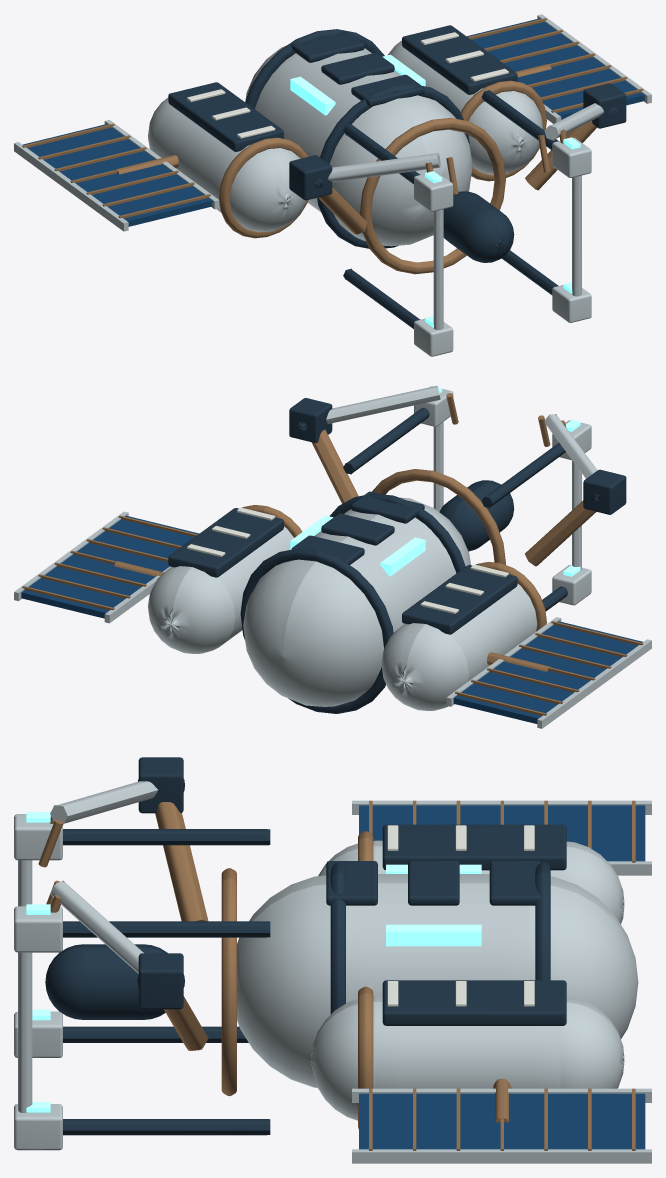
Rendered from equipment.glb.
3 renders of one model, top to bottom at view 1: azimuth 30°, elevation 25°; view 2: azimuth 150°, elevation 25°; view 3: azimuth 270°, elevation 25°, orthographic. The views are drawn at different scales.
Parts seen in each view (by area): view 1: StaticHull, AnimatedHardware; view 2: StaticHull, AnimatedHardware; view 3: StaticHull, AnimatedHardware.
Boxes of the visible parts, <box> form: StaticHull: <box>14,14,651,356</box>; AnimatedHardware: <box>289,83,626,234</box>; StaticHull: <box>14,386,651,728</box>; AnimatedHardware: <box>289,385,626,566</box>; StaticHull: <box>14,800,651,1163</box>; AnimatedHardware: <box>38,757,208,1050</box>.
Bounding box in the file's own units: 6.11 × 2.06 × 4.68.
